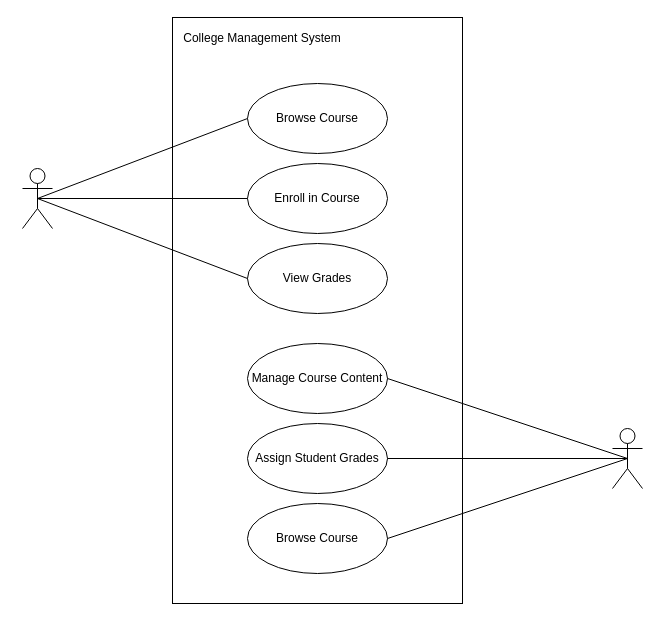
Image size: 667x621. Some labels were removed from this diagram. The shapes that lost their labels are listed below. From the top down, each one's box as (x1, y1, x2, y2) in pixels, then its label:
(22, 168, 52, 228): Student
(612, 428, 642, 488): Lecturer
